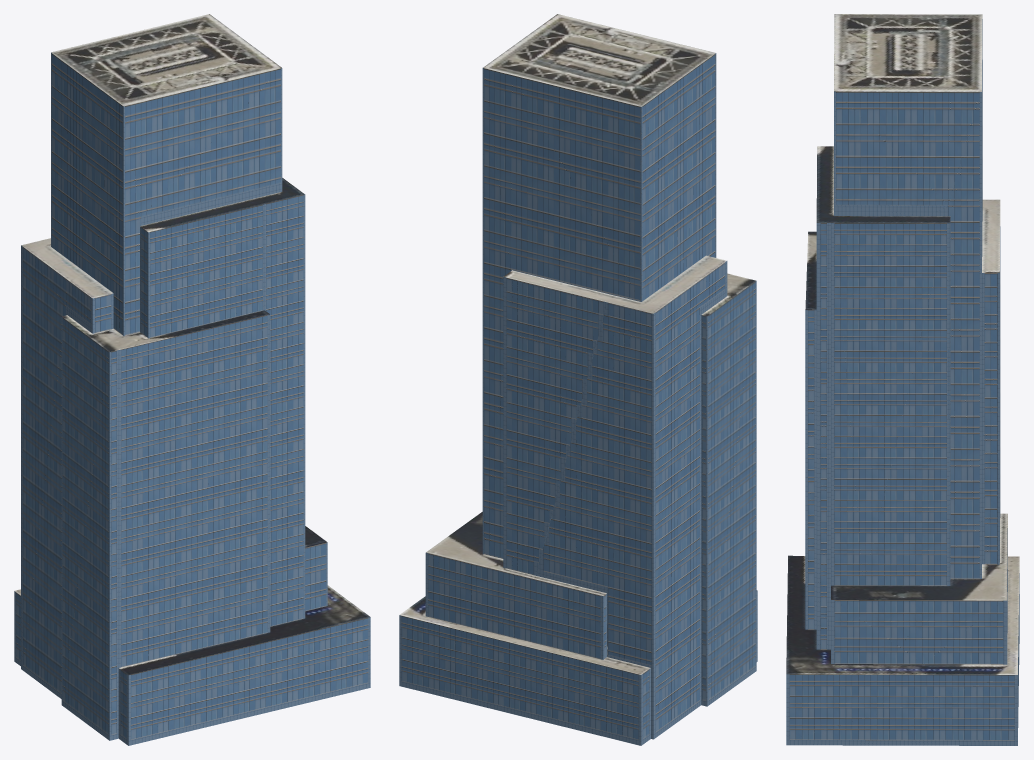
The model's file is building33.fbx.
3 views of the same model, side by side, from view 1: azimuth 30°, elevation 25°; view 2: azimuth 150°, elevation 25°; view 3: azimuth 270°, elevation 25° (orthographic).
Parts seen in each view (by area): view 1: Object.389, geometryt040100010000000110110100110010000010010st51_Barclay, geometryt040100010000000110110100110010000010010st50_Barclay; view 2: Object.389, geometryt040100010000000110110100110010000010010st51_Barclay, geometryt040100010000000110110100110010000010010st50_Barclay; view 3: Object.389, geometryt040100010000000110110100110010000010010st51_Barclay, geometryt040100010000000110110100110010000010010st50_Barclay.
Part boxes in pixels (x1,y1,x2,y2): Object.389: (16, 53, 368, 739); geometryt040100010000000110110100110010000010010st51_Barclay: (14, 14, 370, 675); geometryt040100010000000110110100110010000010010st50_Barclay: (14, 52, 370, 745); Object.389: (401, 54, 755, 739); geometryt040100010000000110110100110010000010010st51_Barclay: (400, 14, 757, 674); geometryt040100010000000110110100110010000010010st50_Barclay: (399, 53, 757, 745); Object.389: (789, 26, 1019, 740); geometryt040100010000000110110100110010000010010st51_Barclay: (786, 14, 1019, 674); geometryt040100010000000110110100110010000010010st50_Barclay: (786, 19, 1019, 745).
Size of the model in its own units: 7453 by 17500 by 5956.
Materials: 5 (5 with a texture image).
